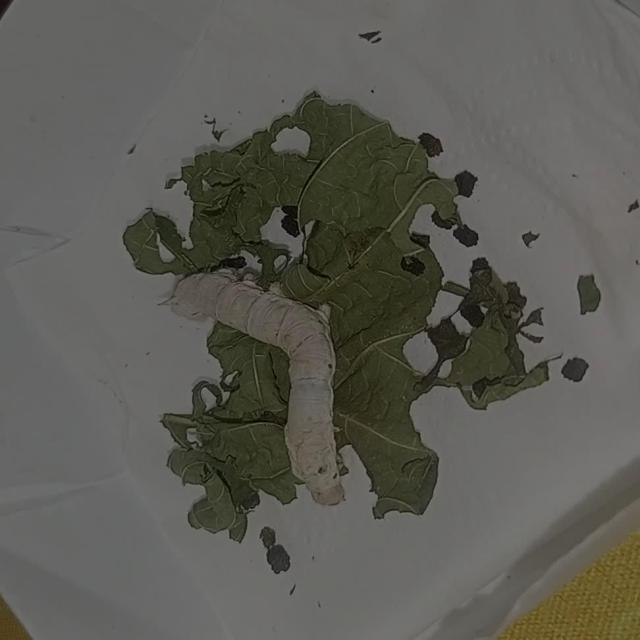Healthy: (153, 252, 371, 526)
